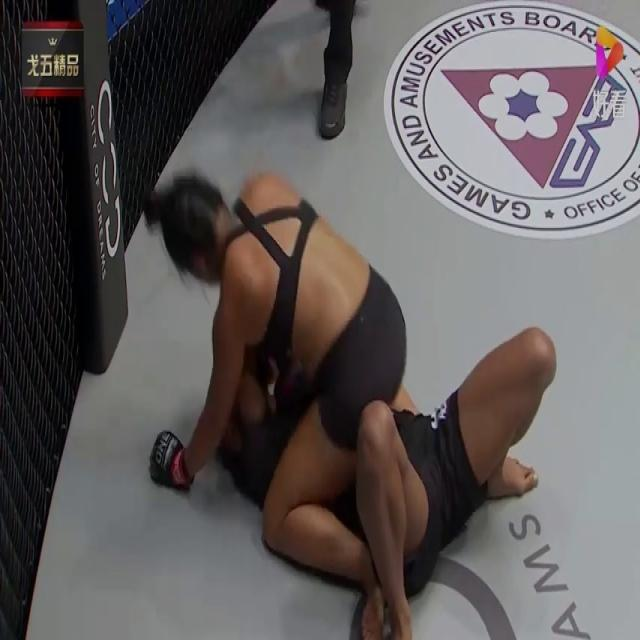fight: (135, 148, 569, 637)
